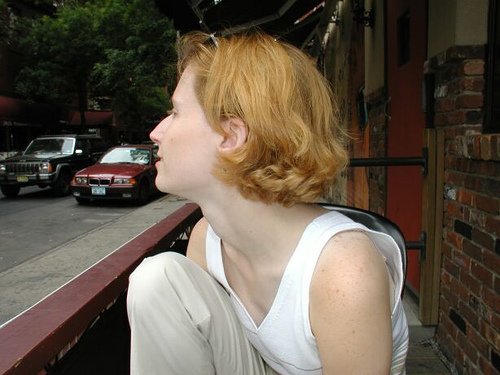without_mask: (152, 63, 251, 201)
